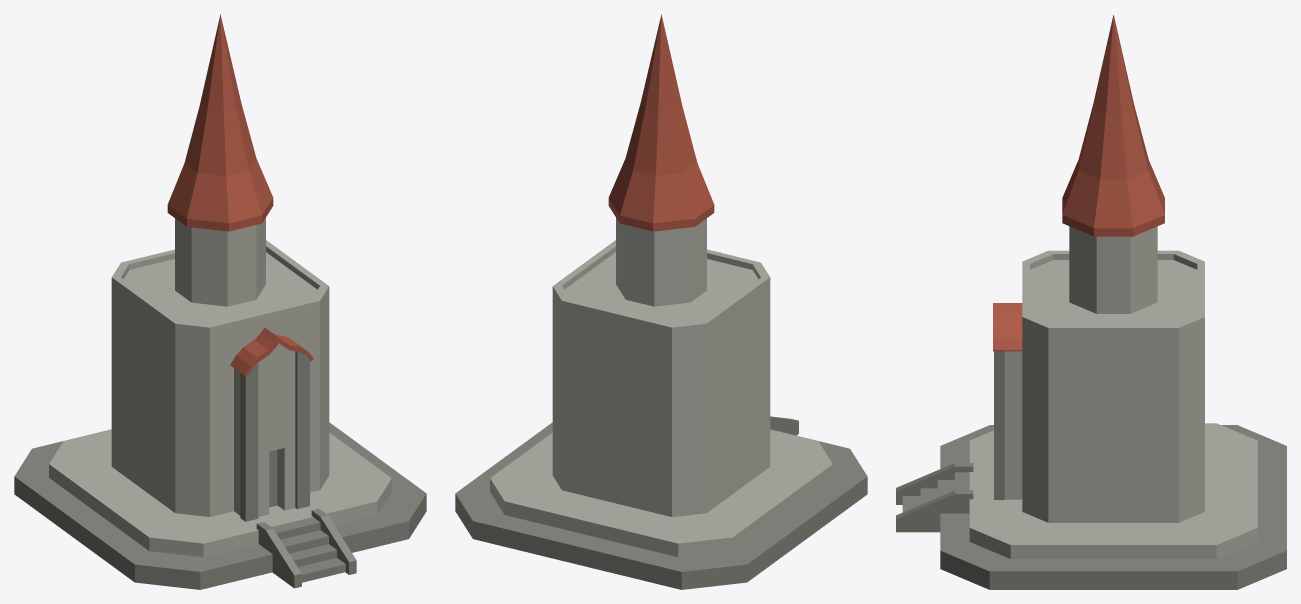
3 views of the same model, side by side, from view 1: azimuth 30°, elevation 25°; view 2: azimuth 150°, elevation 25°; view 3: azimuth 270°, elevation 25° (orthographic). The views are drawn at different scales.
Parts seen in each view (by area): view 1: Temple_SecondAge_Level1; view 2: Temple_SecondAge_Level1; view 3: Temple_SecondAge_Level1.
Part boxes in pixels (x1,y1,x2,y2): Temple_SecondAge_Level1: (14,14,426,589); Temple_SecondAge_Level1: (455,14,867,589); Temple_SecondAge_Level1: (896,15,1286,589).
Size of the model in its own units: 1.75 by 2.8 by 1.97.
